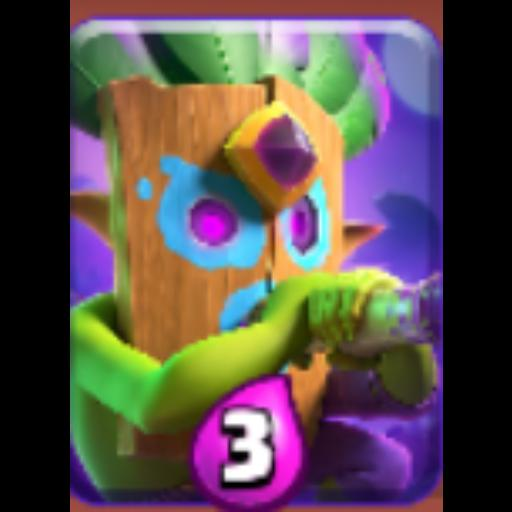dart-goblin-evo: (70, 17, 442, 505)
